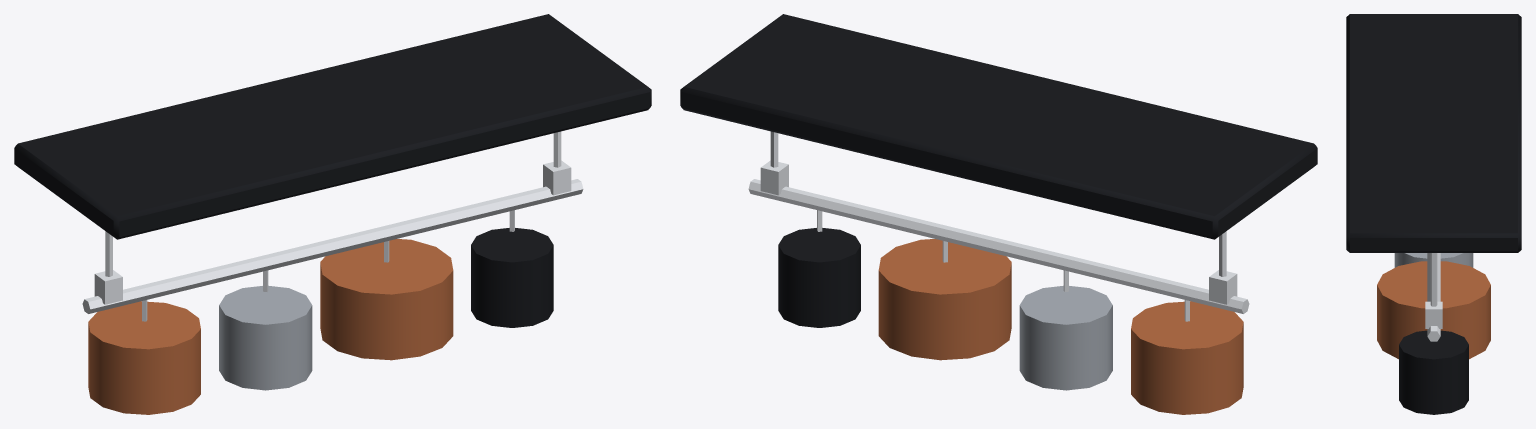
The model's file is galley_hanging_pots_rack.glb.
3 renders of one model, left to right at view 1: azimuth 30°, elevation 25°; view 2: azimuth 150°, elevation 25°; view 3: azimuth 270°, elevation 25°, orthographic. The views are drawn at different scales.
Parts seen in each view (by area): view 1: galley_hanging_pots_rack; view 2: galley_hanging_pots_rack; view 3: galley_hanging_pots_rack.
Part boxes in pixels (x1,y1,x2,y2): galley_hanging_pots_rack: (14,14,651,414); galley_hanging_pots_rack: (680,14,1317,414); galley_hanging_pots_rack: (1346,14,1521,414).
Size of the model in its own units: 1.2 by 0.51 by 0.4.
